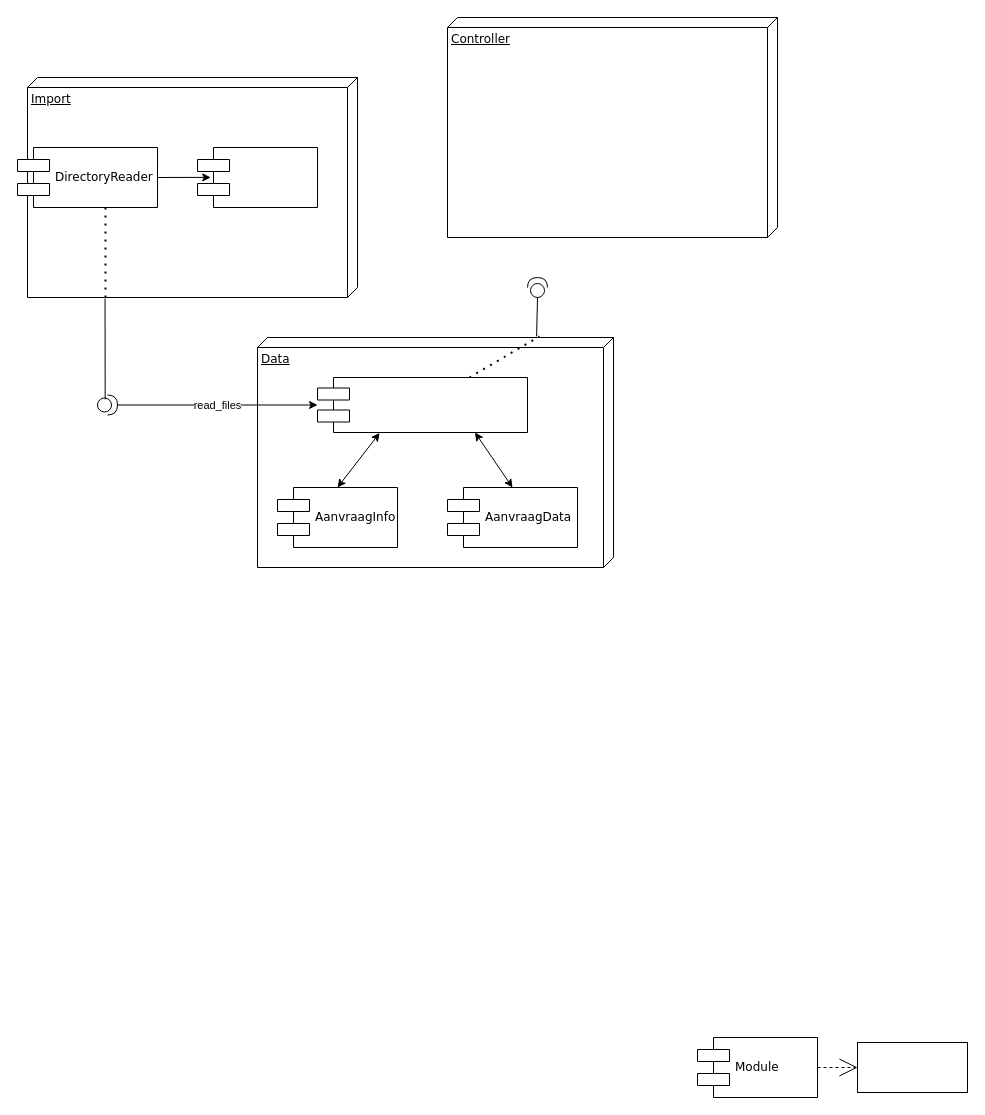
The diagram is 985 pixels wide and 1115 high, and some of its shapes have lost their labels. The shapes that lost their labels are listed below. From the top down, each one's centre as x and y in pixels, then its label:
the point at 257,177: PDFreader
the point at 422,404: AanvraagDatabase
the point at 912,1067: «interface» Name
